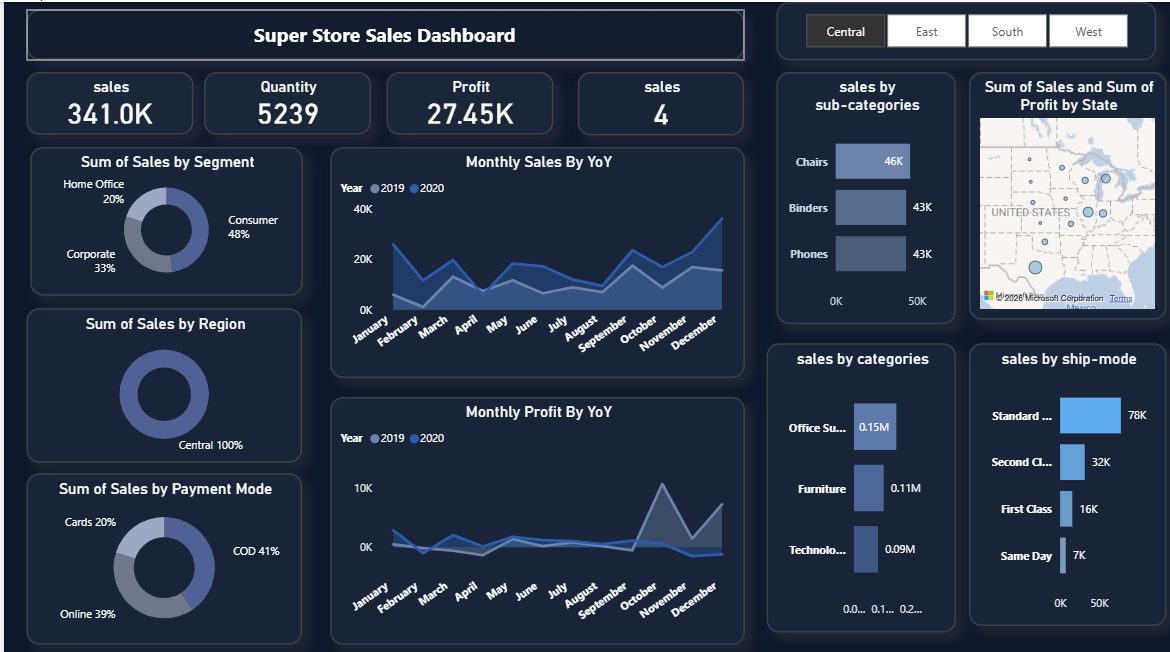

What the dashboard file says about the page in this screenshot:
{"tool":"powerbi","page":{"name":"Dashboard","canvas":[1280,720],"ordinal":0},"visuals":[{"type":"clusteredBarChart","title":"sales by categories","fields":{"Category":["SuperStore_Sales_Dataset.Category"],"Y":["Sum(SuperStore_Sales_Dataset.Sales)"]},"box":[836.5,374.6,208.3,317.5],"z":0},{"type":"clusteredBarChart","title":"sales by sub-categories","fields":{"Category":["SuperStore_Sales_Dataset.Sub-Category"],"Y":["Sum(SuperStore_Sales_Dataset.Sales)"]},"box":[848.3,77.3,196.5,277.2],"z":1000},{"type":"clusteredBarChart","title":"sales by ship-mode","fields":{"Y":["Sum(SuperStore_Sales_Dataset.Sales)"],"Category":["SuperStore_Sales_Dataset.Ship Mode"]},"box":[1059.9,374.6,216.7,310.8],"z":2000},{"type":"areaChart","title":"Monthly Sales By YoY","fields":{"Y":["Sum(SuperStore_Sales_Dataset.Sales)"],"Series":["SuperStore_Sales_Dataset.Order Date.Variation.Date Hierarchy.Year"],"Category":["SuperStore_Sales_Dataset.Order Date.Variation.Date Hierarchy.Month","SuperStore_Sales_Dataset.Order Date.Variation.Date Hierarchy.Day"]},"box":[357.8,159.6,455.2,253.6],"z":3000},{"type":"areaChart","title":"Monthly Profit By YoY ","fields":{"Series":["SuperStore_Sales_Dataset.Order Date.Variation.Date Hierarchy.Year"],"Category":["SuperStore_Sales_Dataset.Order Date.Variation.Date Hierarchy.Month","SuperStore_Sales_Dataset.Order Date.Variation.Date Hierarchy.Day"],"Y":["Sum(SuperStore_Sales_Dataset.Profit)"]},"box":[357.8,433.4,455.2,272.1],"z":4000},{"type":"map","fields":{"Category":["SuperStore_Sales_Dataset.State"],"Size":["Sum(SuperStore_Sales_Dataset.Sales)"]},"box":[1059.9,77.3,216.7,272.1],"z":5000},{"type":"donutChart","fields":{"Y":["Sum(SuperStore_Sales_Dataset.Sales)"],"Category":["SuperStore_Sales_Dataset.Segment"]},"box":[28.6,159.6,299,162.9],"z":6000},{"type":"donutChart","fields":{"Y":["Sum(SuperStore_Sales_Dataset.Sales)"],"Category":["SuperStore_Sales_Dataset.Payment Mode","SuperStore_Sales_Dataset.Segment"]},"box":[25.2,517.4,302.4,188.1],"z":7000},{"type":"slicer","fields":{"Values":["SuperStore_Sales_Dataset.Region"]},"box":[848.3,0,416.6,63.8],"z":8000},{"type":"textbox","box":[25.2,8.4,787.8,55.4],"z":9000},{"type":"card","title":"sales","fields":{"Values":["Sum(SuperStore_Sales_Dataset.Sales)"]},"box":[25.2,77.3,183.1,68.9],"z":10000},{"type":"card","title":"Quantity","fields":{"Values":["Sum(SuperStore_Sales_Dataset.Quantity)"]},"box":[220.1,77.3,183.1,68.9],"z":11000},{"type":"card","title":"Profit","fields":{"Values":["Sum(SuperStore_Sales_Dataset.Profit)"]},"box":[419.9,77.3,183.1,68.9],"z":12000},{"type":"card","title":"sales","fields":{"Values":["Avg(SuperStore_Sales_Dataset.Avgdelivery)"]},"box":[629.8,76.8,182.5,70],"z":13000},{"type":"donutChart","fields":{"Y":["Sum(SuperStore_Sales_Dataset.Sales)"],"Category":["SuperStore_Sales_Dataset.Region"]},"box":[25.2,336,302.4,169.7],"z":14000}]}

Visuals, with their boxes in screenshot pixels (x1, y1, x2, y2), scaled from the page's 1280x720 canvas onto the 1170x652 screenshot:
"sales by categories" clusteredBarChart: 765,339,955,627
"sales by sub-categories" clusteredBarChart: 775,70,955,321
"sales by ship-mode" clusteredBarChart: 969,339,1167,621
"Monthly Sales By YoY" areaChart: 327,145,743,374
"Monthly Profit By YoY " areaChart: 327,392,743,639
map - SuperStore_Sales_Dataset.State x Sum(SuperStore_Sales_Dataset.Sales): 969,70,1167,316
donutChart - Sum(SuperStore_Sales_Dataset.Sales) x SuperStore_Sales_Dataset.Segment: 26,145,299,292
donutChart - Sum(SuperStore_Sales_Dataset.Sales) x SuperStore_Sales_Dataset.Payment Mode: 23,469,299,639
slicer - SuperStore_Sales_Dataset.Region: 775,0,1156,58
textbox: 23,8,743,58
"sales" card: 23,70,190,132
"Quantity" card: 201,70,369,132
"Profit" card: 384,70,551,132
"sales" card: 576,70,742,133
donutChart - Sum(SuperStore_Sales_Dataset.Sales) x SuperStore_Sales_Dataset.Region: 23,304,299,458
